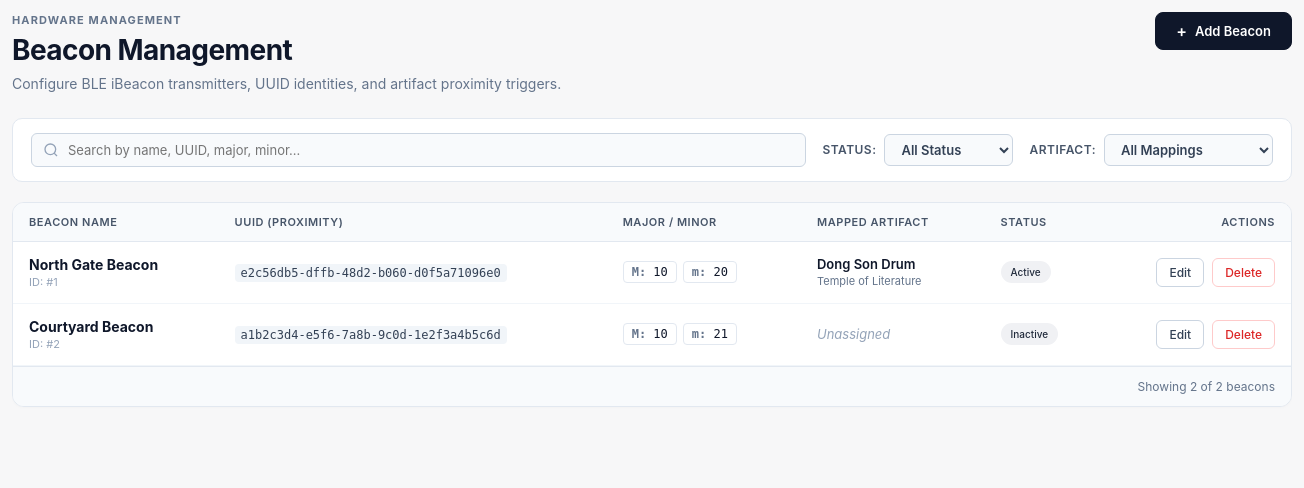
Test case: BeaconsPage — Admin Beacon Management › error handling › refreshes the list when deleting a beacon that is already gone (404)
Expected: the text "North Gate Beacon" is shown, [29,256,158,272]
Click the button with aria-label "delete north gate beacon": coordinates (1244, 272) [1212,258,1275,286]
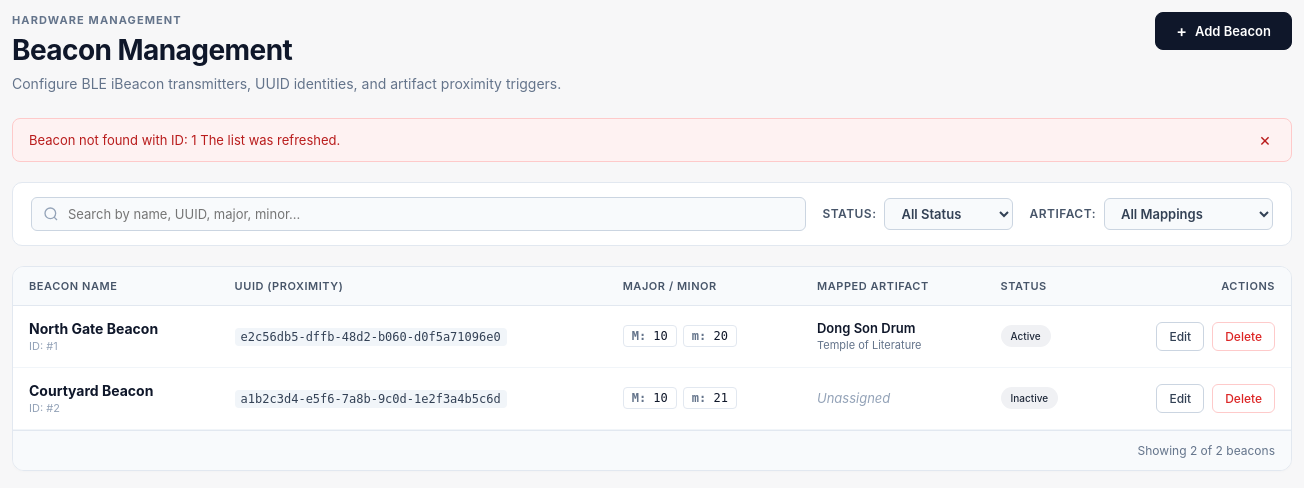
Expected: the text "Beacon not found with ID: 1 The list was refreshed." is shown, [29,132,340,148]
